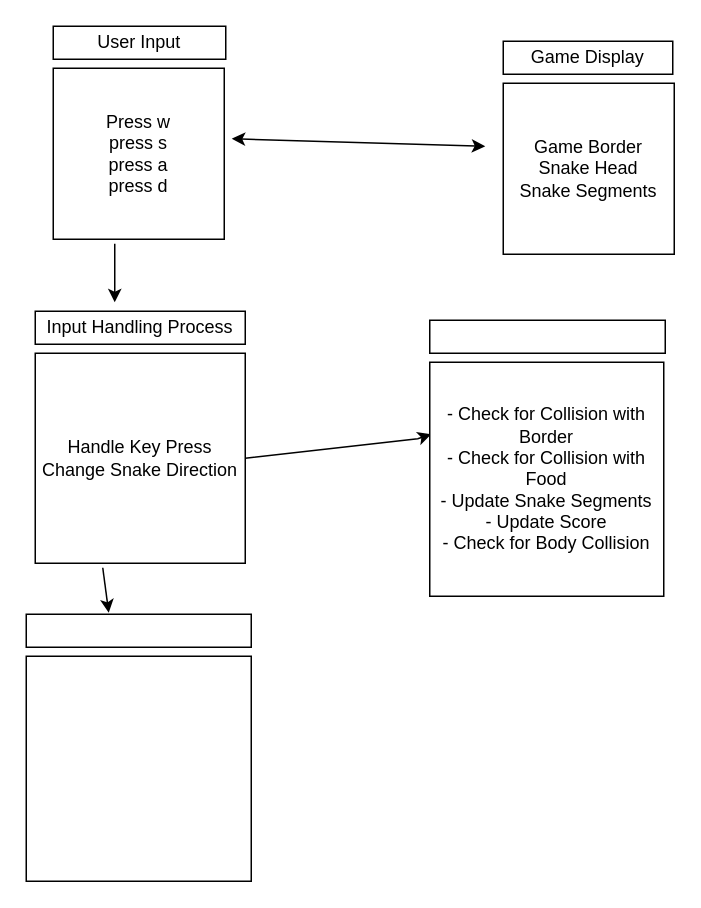
The diagram is 701 pixels wide and 908 high, and some of its shapes have lost their labels. Each missing label, with the box of its shape:
Current Score High Score: (25, 655, 251, 881)
Data Storage (Score): (25, 613, 251, 647)
Game Logic Process: (428, 319, 665, 353)
